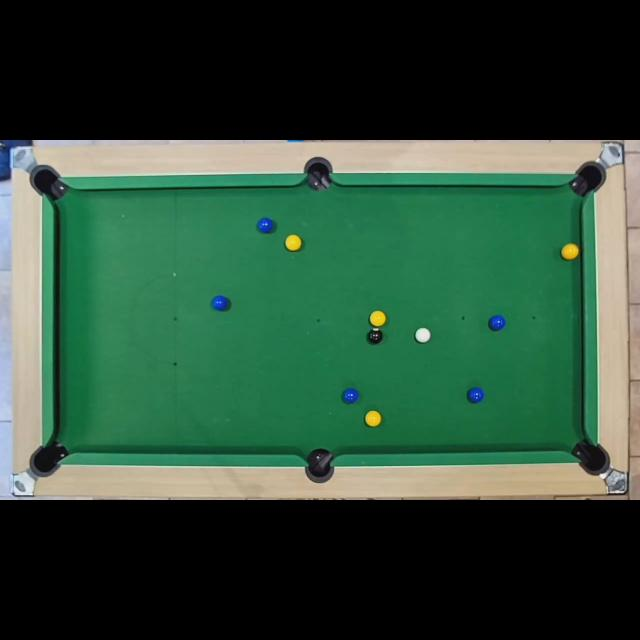Ball: (561, 243, 579, 259), (285, 235, 303, 251), (342, 388, 358, 404), (467, 387, 483, 403), (365, 411, 381, 427), (489, 316, 505, 332), (370, 311, 386, 327), (368, 328, 382, 344), (212, 296, 226, 312), (258, 218, 274, 232), (416, 328, 430, 344)
